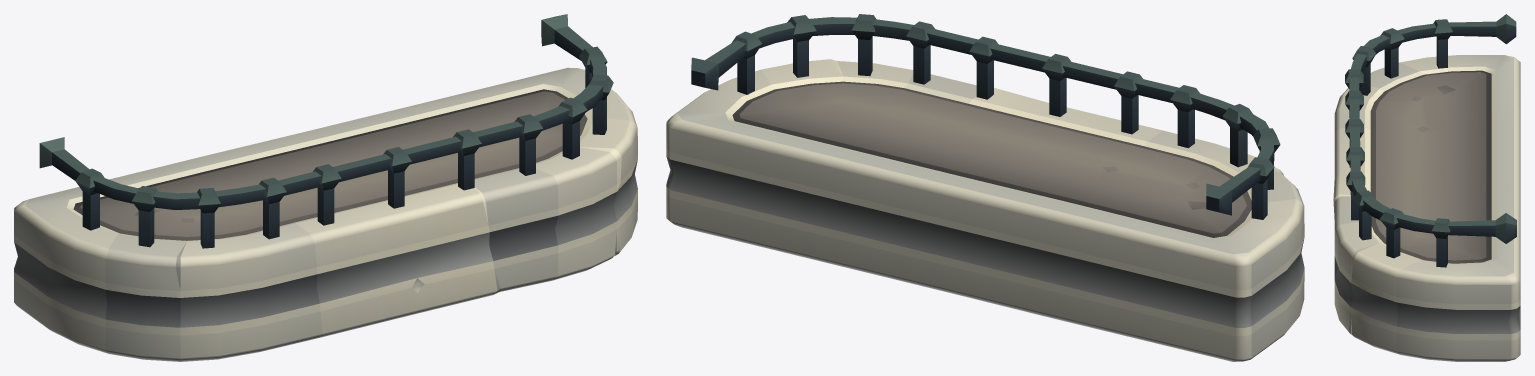
The model's file is balcony4_LOD_setup.fbx.
3 renders of one model, left to right at view 1: azimuth 30°, elevation 25°; view 2: azimuth 150°, elevation 25°; view 3: azimuth 270°, elevation 25°, orthographic. The views are drawn at different scales.
Visible parts, largest first — view 1: balcony4_LOD0; view 2: balcony4_LOD0; view 3: balcony4_LOD0.
Boxes of the visible parts, <box> form: balcony4_LOD0: <box>14,14,637,361</box>; balcony4_LOD0: <box>666,14,1304,361</box>; balcony4_LOD0: <box>1333,14,1520,361</box>.
Size of what is drawn, in the model's own units: 610 by 168 by 213.
